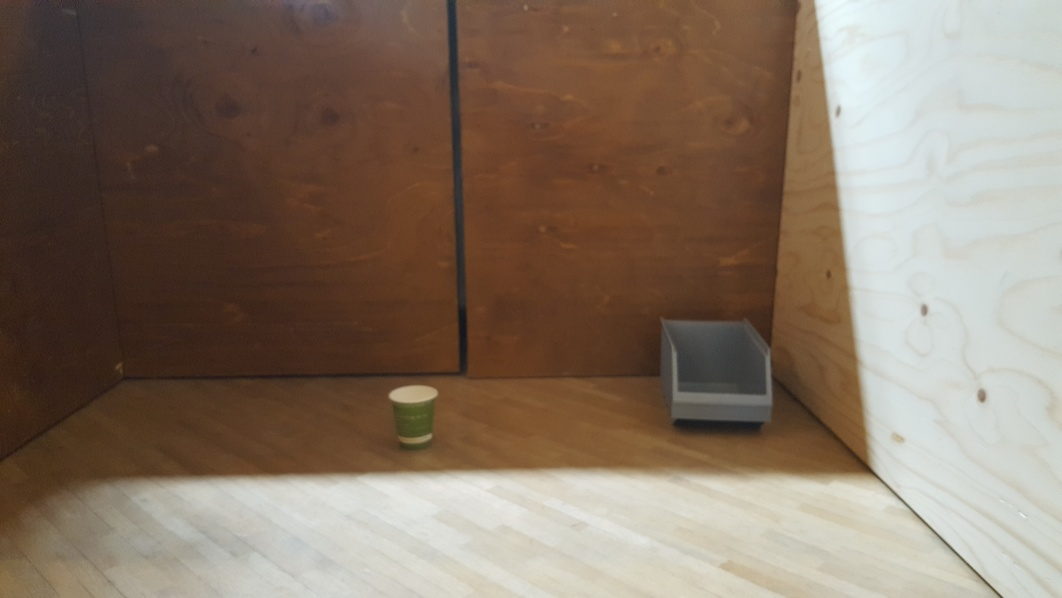cup: (387, 382, 441, 453)
tray: (654, 311, 778, 429)
